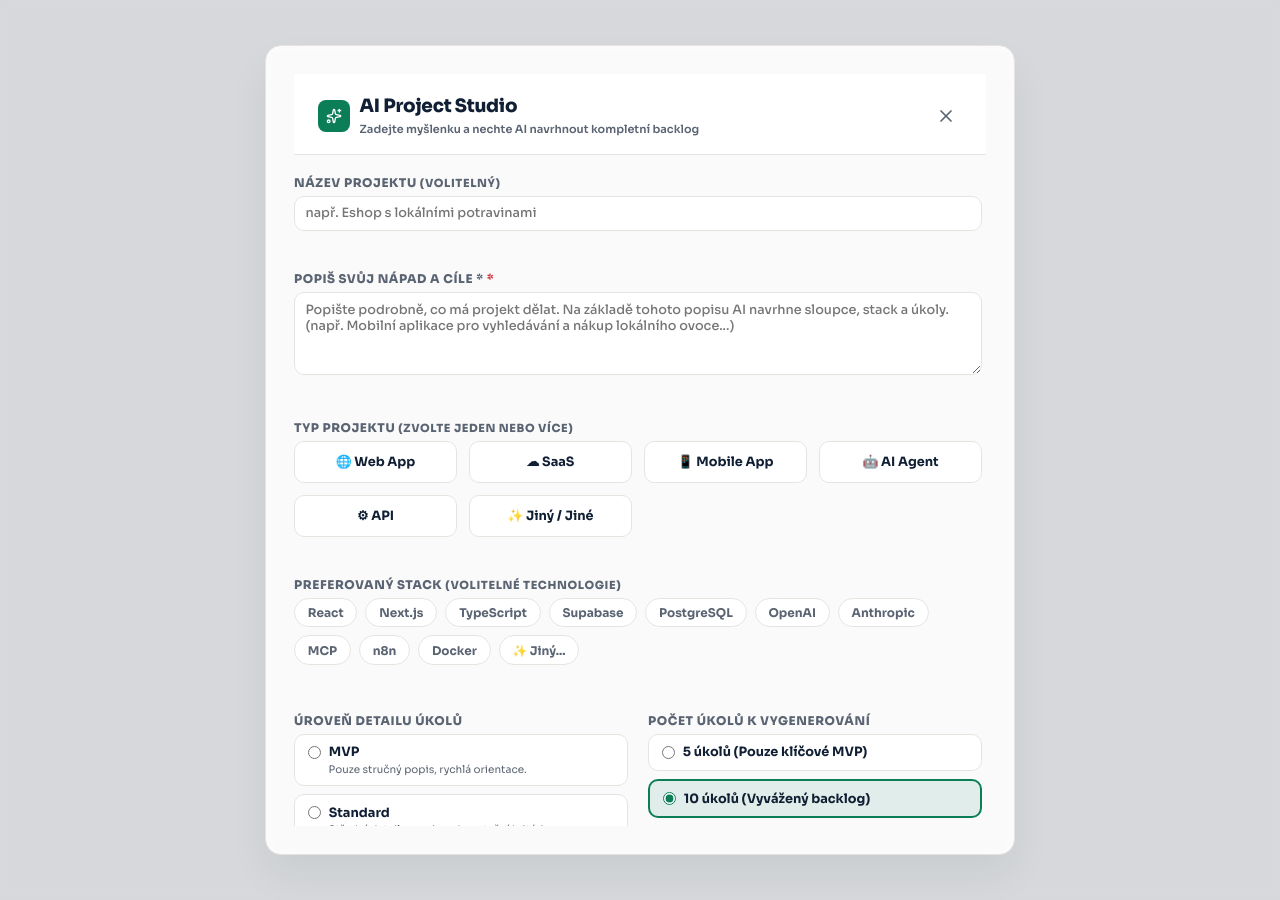
Test: AI Generate Project Workflow Tests › GenerateProjectModal preview supports tab navigation and backlog task accordion toggles
This screenshot has width=1280, height=900.
Replace the text in the text box with placeholder "Popište podrobně" with "Testing tabs and accordion" at (638, 334), box [294,292,982,375]
(page scrolled)
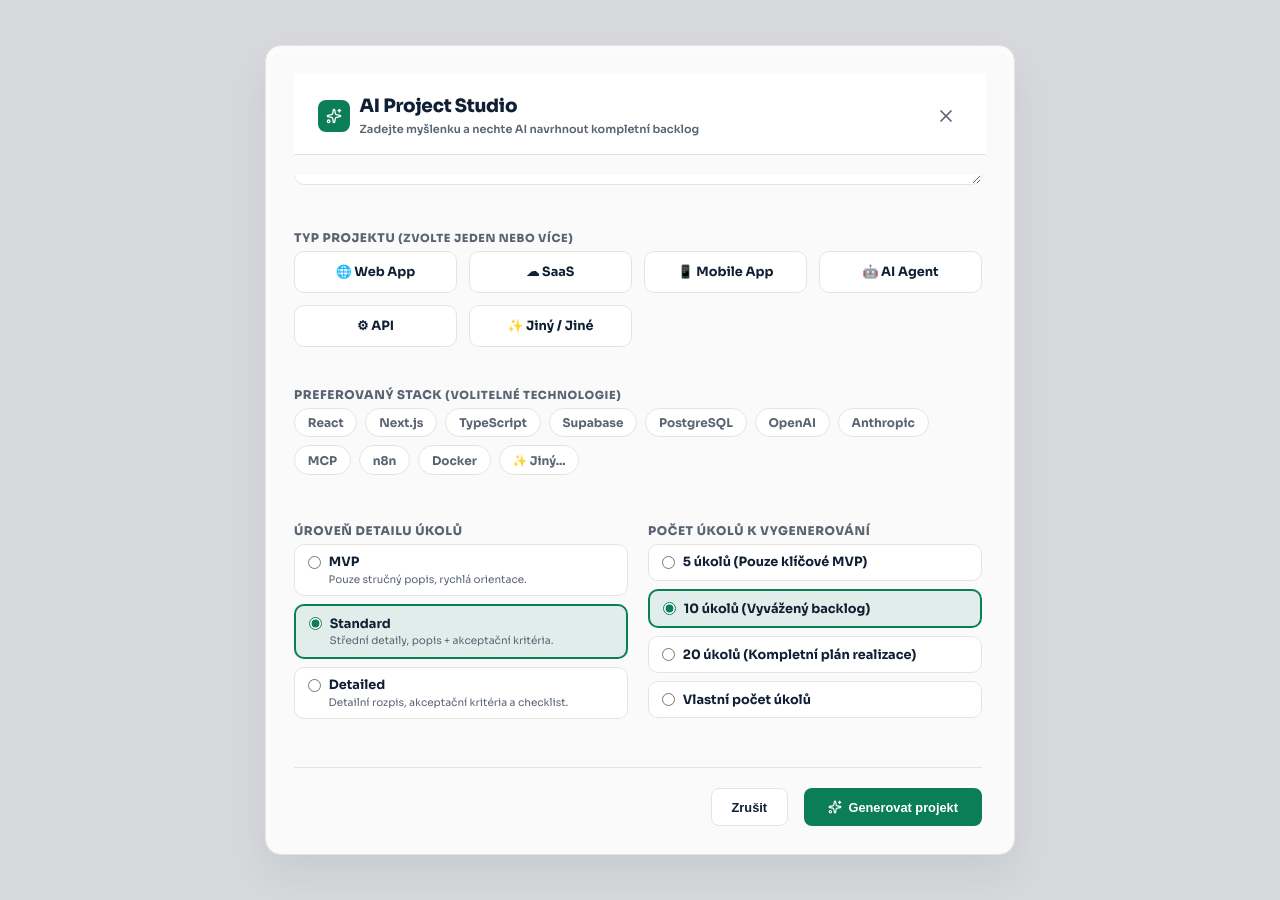
Click the button "Generovat projekt".
click(893, 807)  # box [804,788,982,826]
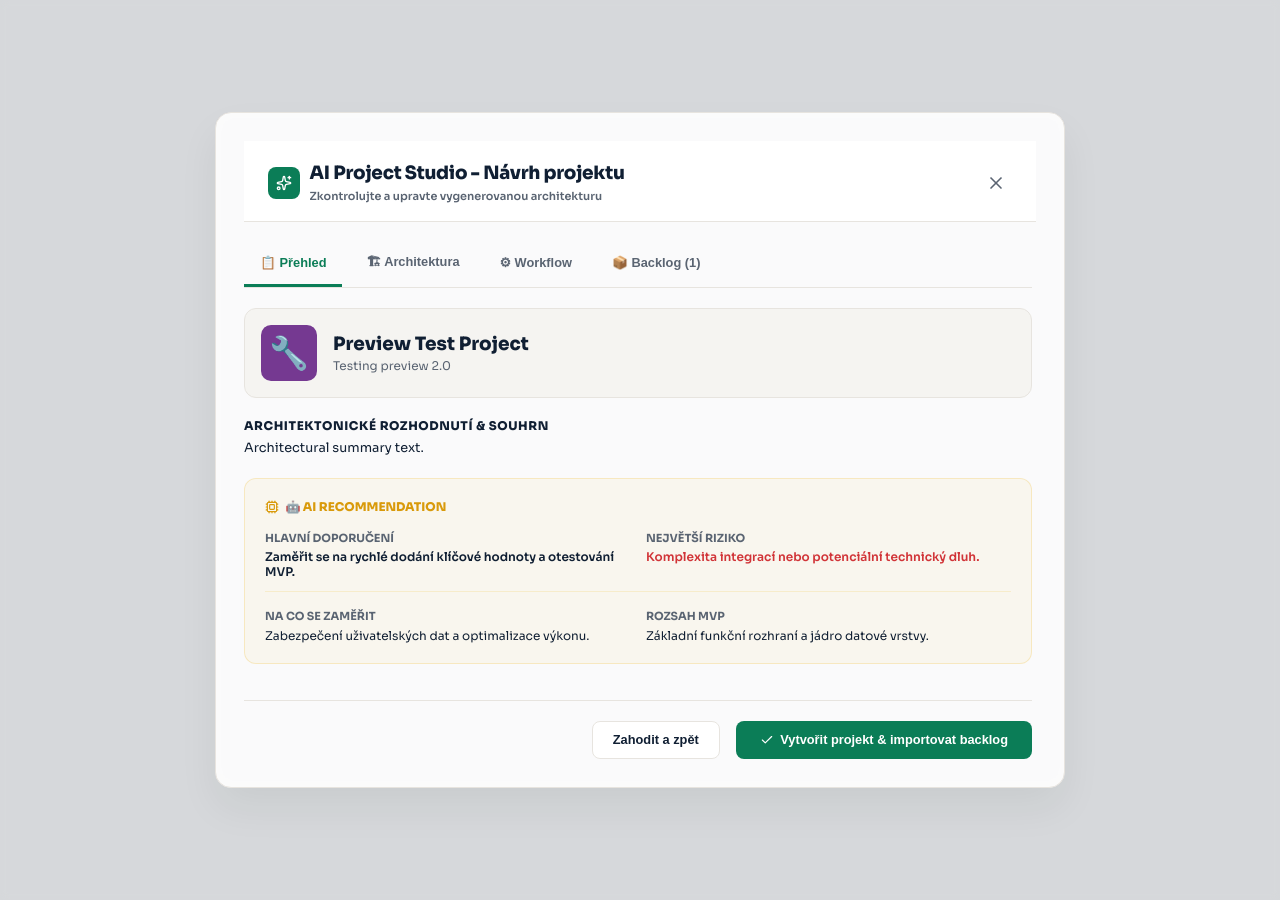
expect the element with test id "generate-project-preview" is shown: met, box [244,308,1032,664]
expect the heading "Preview Test Project" is shown: met, box [333,332,529,355]
expect the text "Architectural summary text." is shown: met, box [244,440,424,456]
// Navigate to Backlog tab
Click the tab with test id "preview-tab-backlog".
click(656, 264)  # box [596,242,716,286]
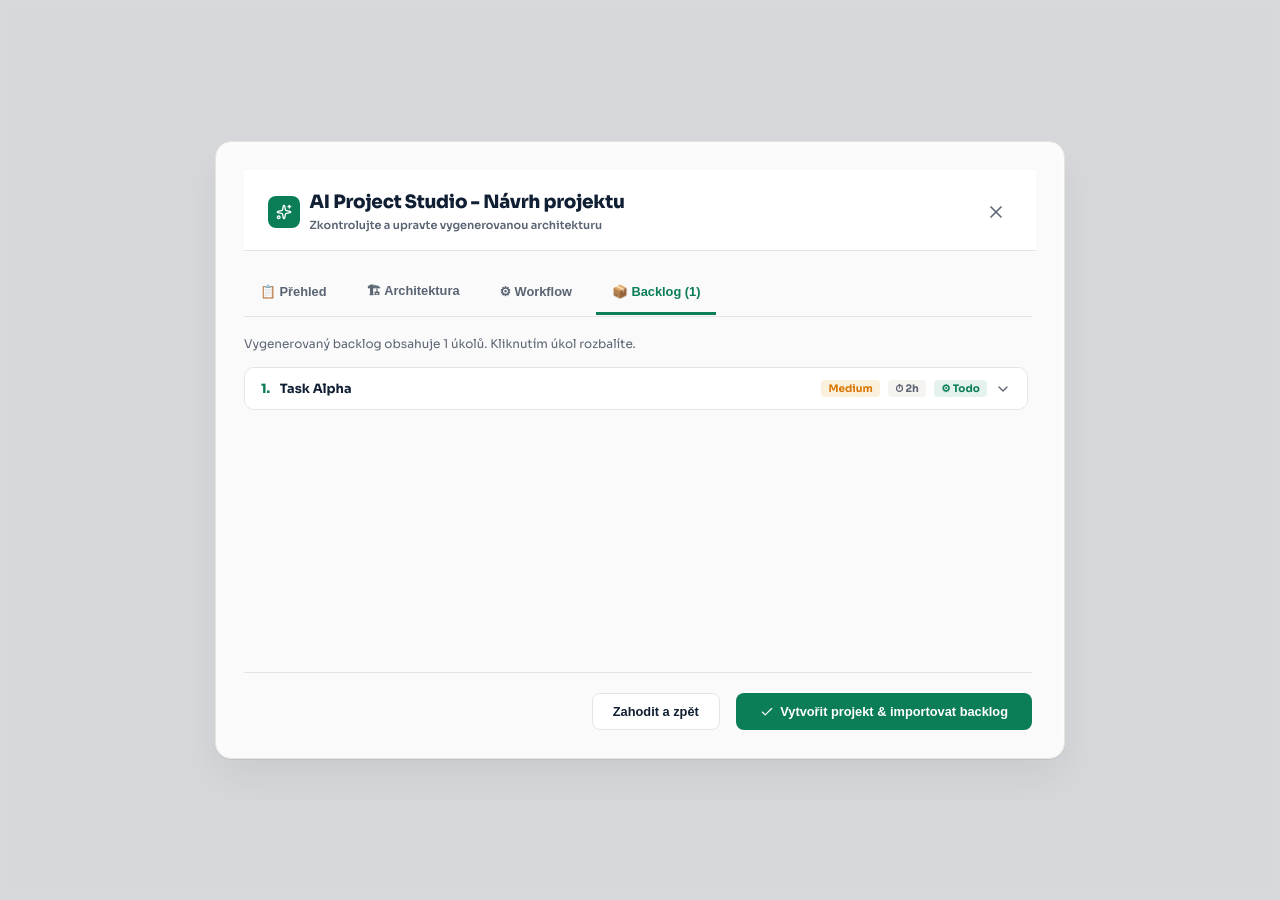
expect the text "This is description Alpha" is not shown: met
expect the text "Task Alpha" is shown: met
// Click on accordion header to expand task details
Click the text "Task Alpha".
click(316, 389)  # box [280,381,352,397]
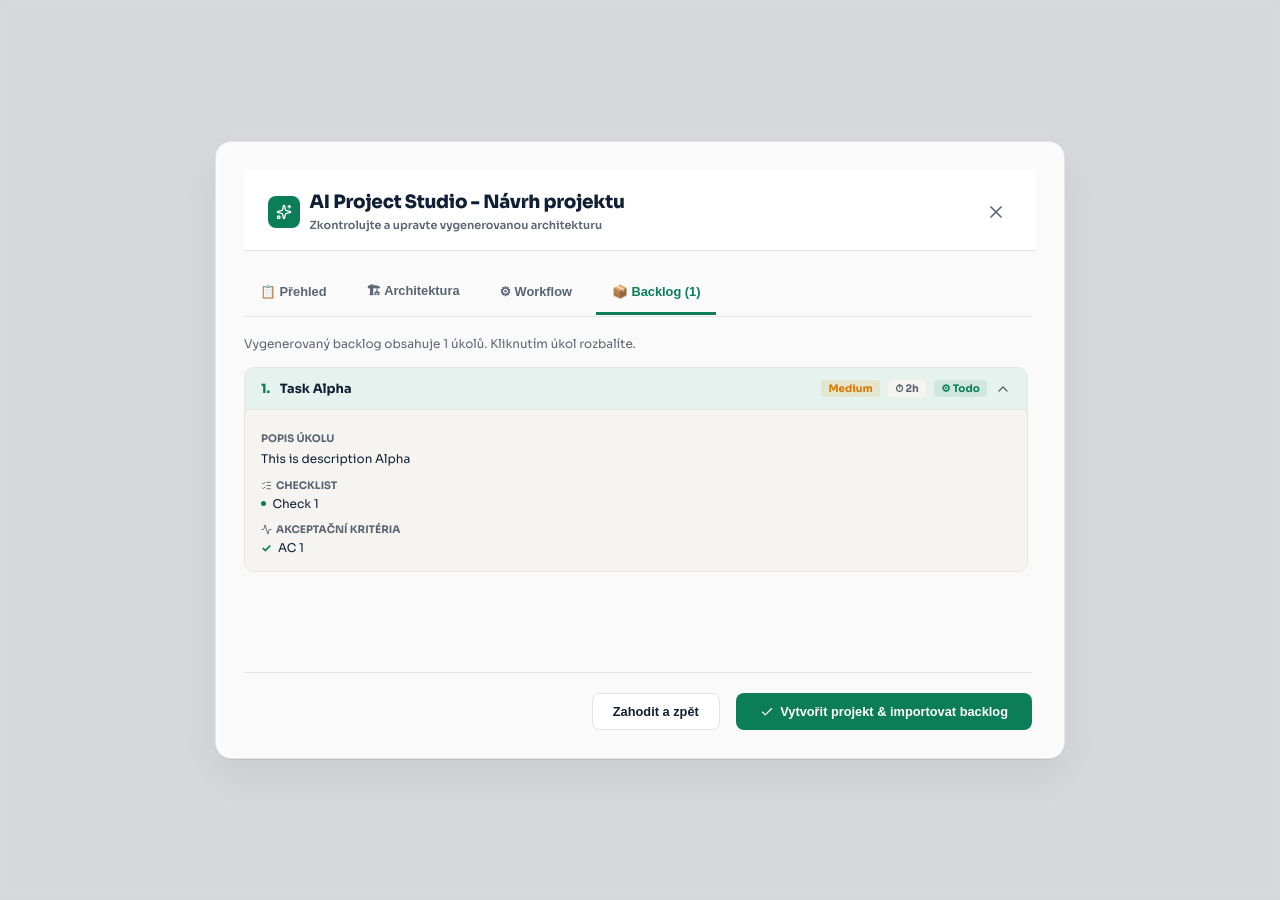
expect the text "This is description Alpha" is shown: met, box [261,451,410,466]
expect the text "Check 1" is shown: met, box [261,496,319,512]
expect the text "AC 1" is shown: met, box [278,540,304,556]
